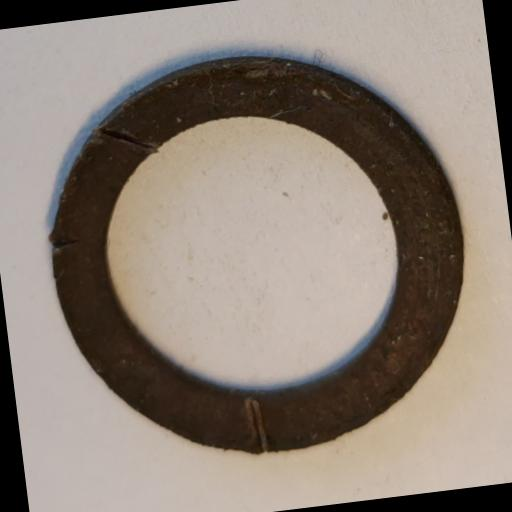defect: (94, 116, 156, 158), (242, 394, 271, 456), (48, 228, 81, 256)
